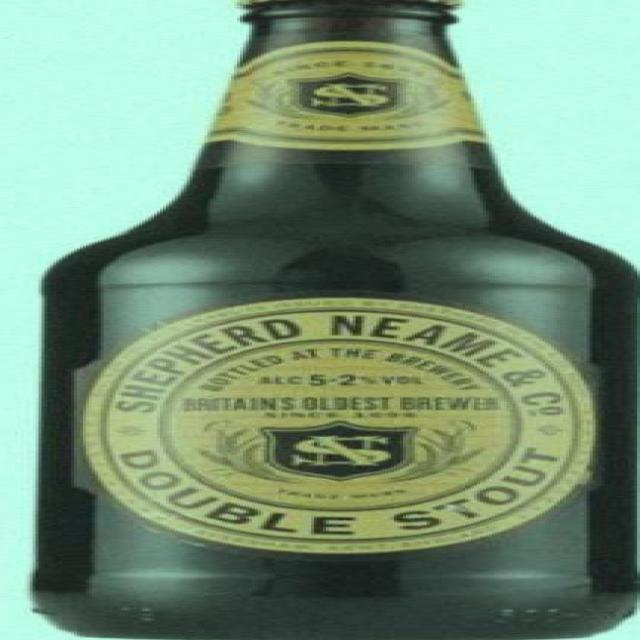Sheperd Neame DOUBLE STOUT: (3, 0, 640, 640)
